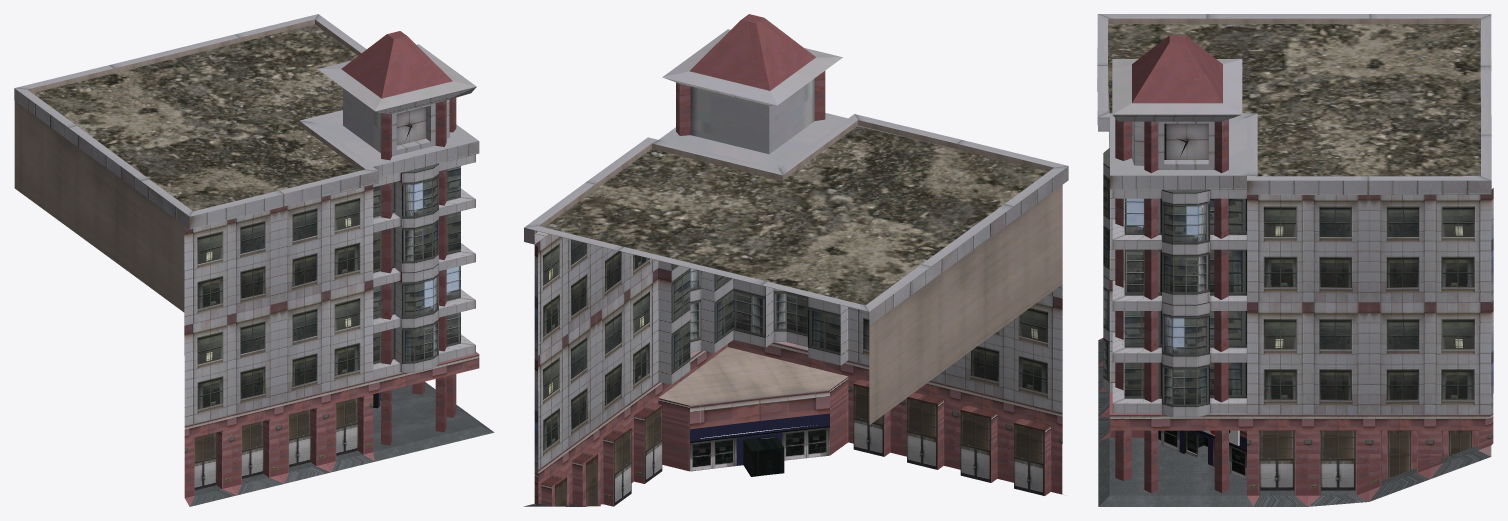
The model's file is sfe_redwht2.obj.
3 renders of one model, left to right at view 1: azimuth 30°, elevation 25°; view 2: azimuth 150°, elevation 25°; view 3: azimuth 270°, elevation 25°, orthographic. The views are drawn at different scales.
Visible parts, largest first — view 1: sfe_redwht2; view 2: sfe_redwht2; view 3: sfe_redwht2.
Part boxes in pixels (left/top/right/bottom): sfe_redwht2: left=14, top=14, right=494, bottom=506; sfe_redwht2: left=523, top=14, right=1068, bottom=506; sfe_redwht2: left=1097, top=14, right=1493, bottom=506.
Size of the model in its own units: 35.5 by 43 by 35.58.
11 materials, 11 textured.
